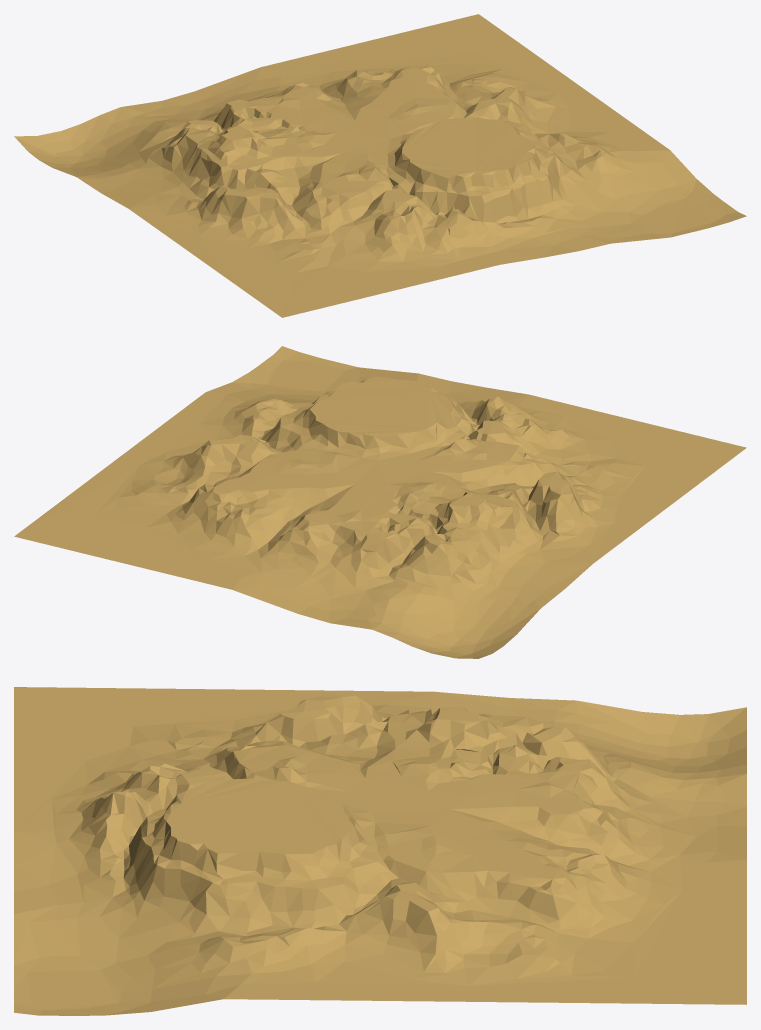
Rendered from Smthng.fbx.
The picture shows the model from 3 angles, top to bottom: view 1: azimuth 30°, elevation 25°; view 2: azimuth 150°, elevation 25°; view 3: azimuth 270°, elevation 25°; orthographic projection. The views are drawn at different scales.
Parts seen in each view (by area): view 1: Landscape.007; view 2: Landscape.007; view 3: Landscape.007.
Boxes of the visible parts, box(x1,y1,x2,y2) form: Landscape.007: box(14, 14, 746, 317); Landscape.007: box(14, 346, 746, 658); Landscape.007: box(14, 687, 746, 1015).
Size of the model in its own units: 300 by 42.46 by 300.
Materials: 1 (1 with a texture image).
